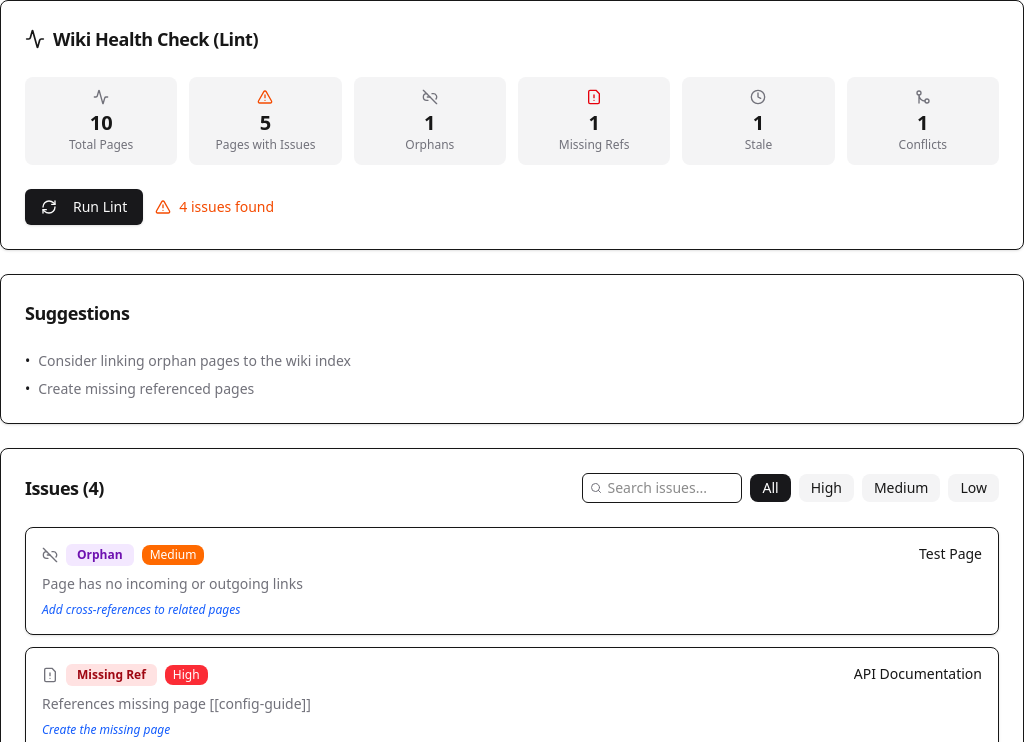
it: WikiLint Search and Filter › shows no results message when search yields no matches
Check: the text "Test Page" is shown, box left=919, top=544, right=982, bottom=564
Type "nonexistent" into the field with placeholder "Search issues..." at (662, 488), box left=582, top=473, right=742, bottom=503
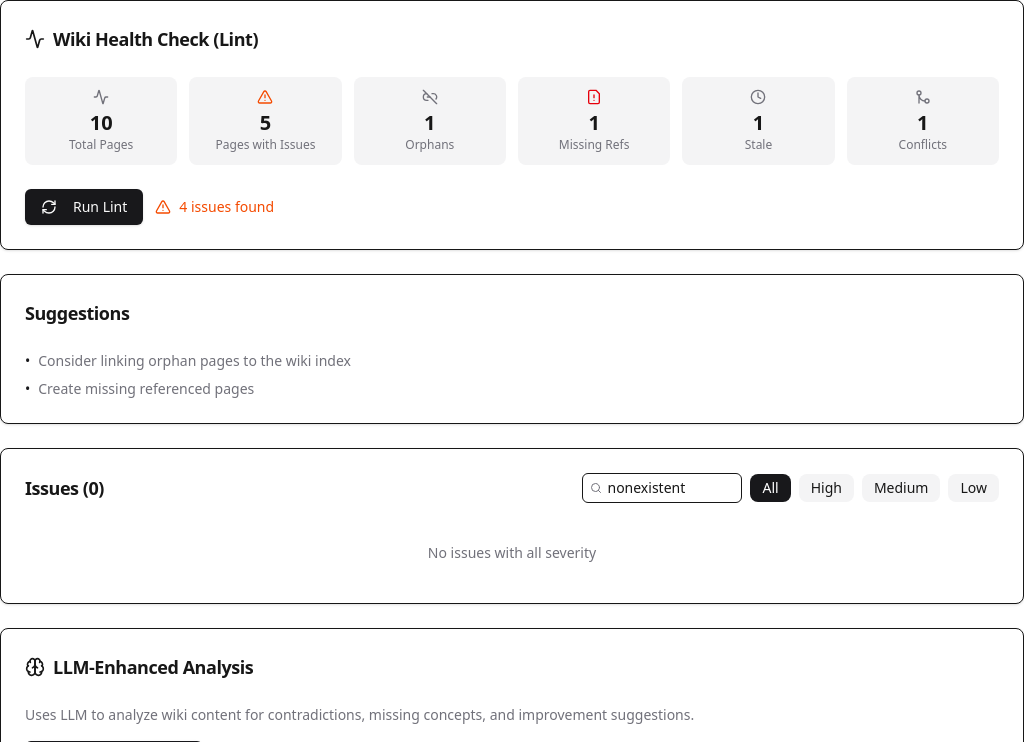
Check: the text "No issues with all severity" is shown, box left=428, top=543, right=596, bottom=562
